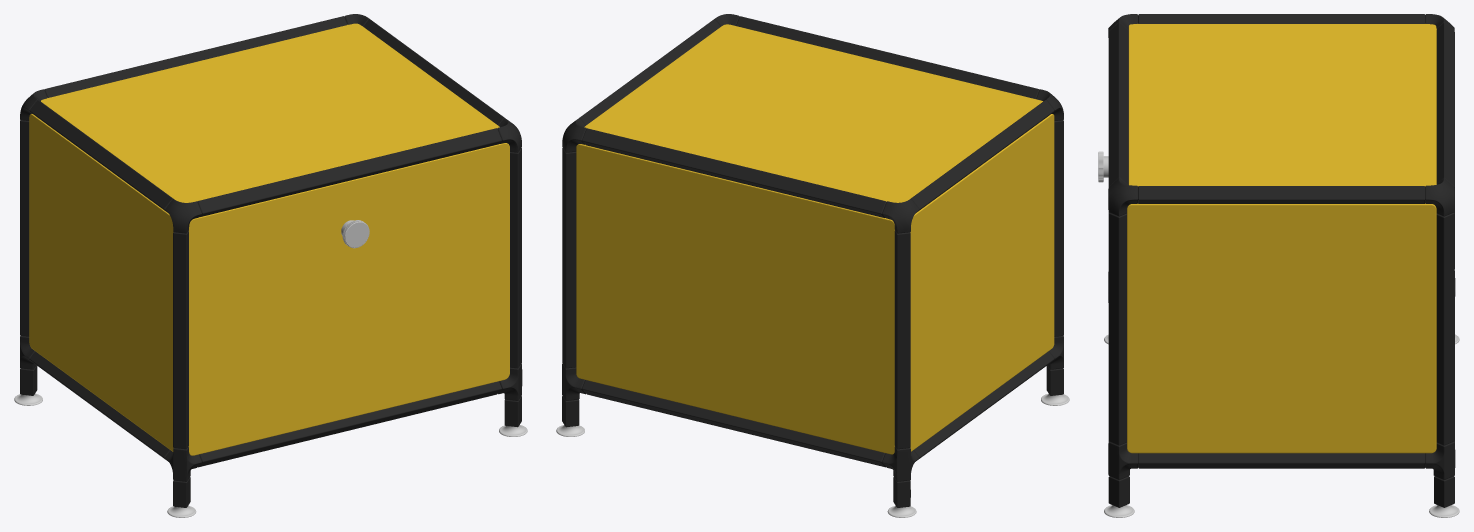
The picture shows the model from 3 angles, left to right: view 1: azimuth 30°, elevation 25°; view 2: azimuth 150°, elevation 25°; view 3: azimuth 270°, elevation 25°; orthographic projection. The views are drawn at different scales.
Visible parts, largest first — view 1: 479x374x329; view 2: 479x374x329; view 3: 479x374x329.
Part boxes in pixels (<box>): 479x374x329: <box>14,14,527,517</box>; 479x374x329: <box>556,14,1069,517</box>; 479x374x329: <box>1098,14,1459,517</box>.
Size of the model in its own units: 0.5689 by 0.4683 by 0.4707.
